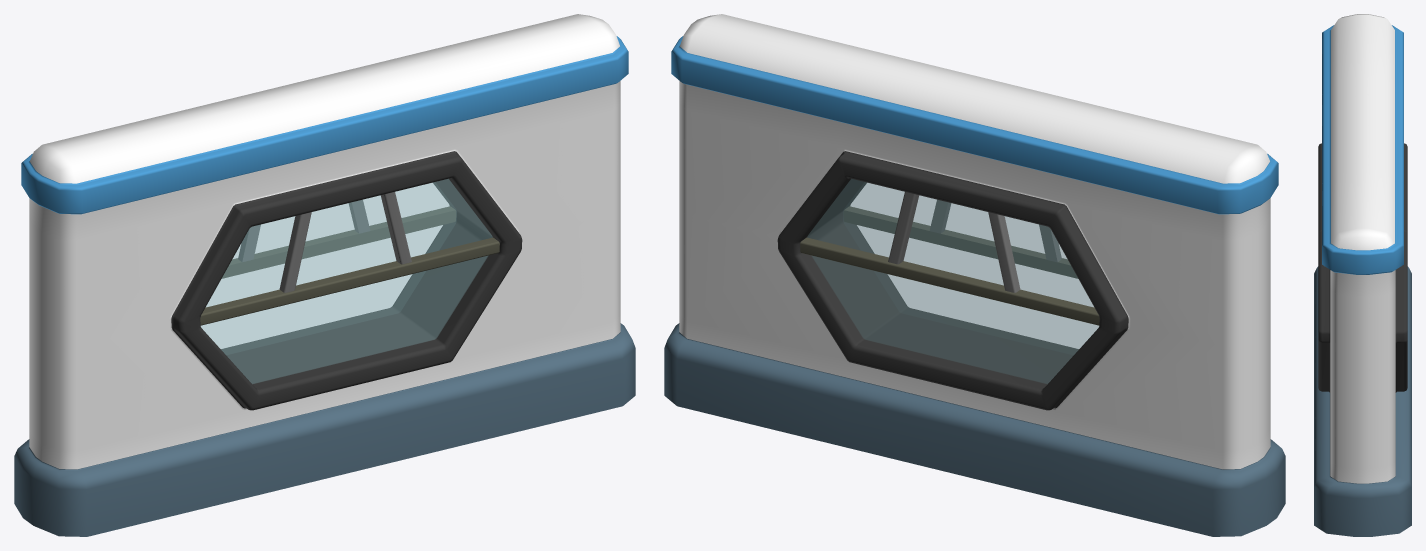
File: Env1_Window.fbx
The picture shows the model from 3 angles, left to right: view 1: azimuth 30°, elevation 25°; view 2: azimuth 150°, elevation 25°; view 3: azimuth 270°, elevation 25°; orthographic projection. The views are drawn at different scales.
Parts seen in each view (by area): view 1: Env_Window; view 2: Env_Window; view 3: Env_Window.
Boxes of the visible parts, left/top/right/bottom form: Env_Window: left=14, top=14, right=635, bottom=536; Env_Window: left=664, top=14, right=1285, bottom=536; Env_Window: left=1314, top=14, right=1411, bottom=536.
Size of the model in its own units: 332 by 195 by 58.24.
